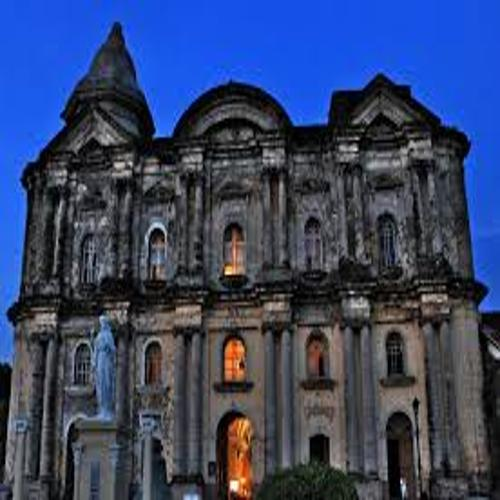Taal Basilica Church: (15, 15, 487, 492)
